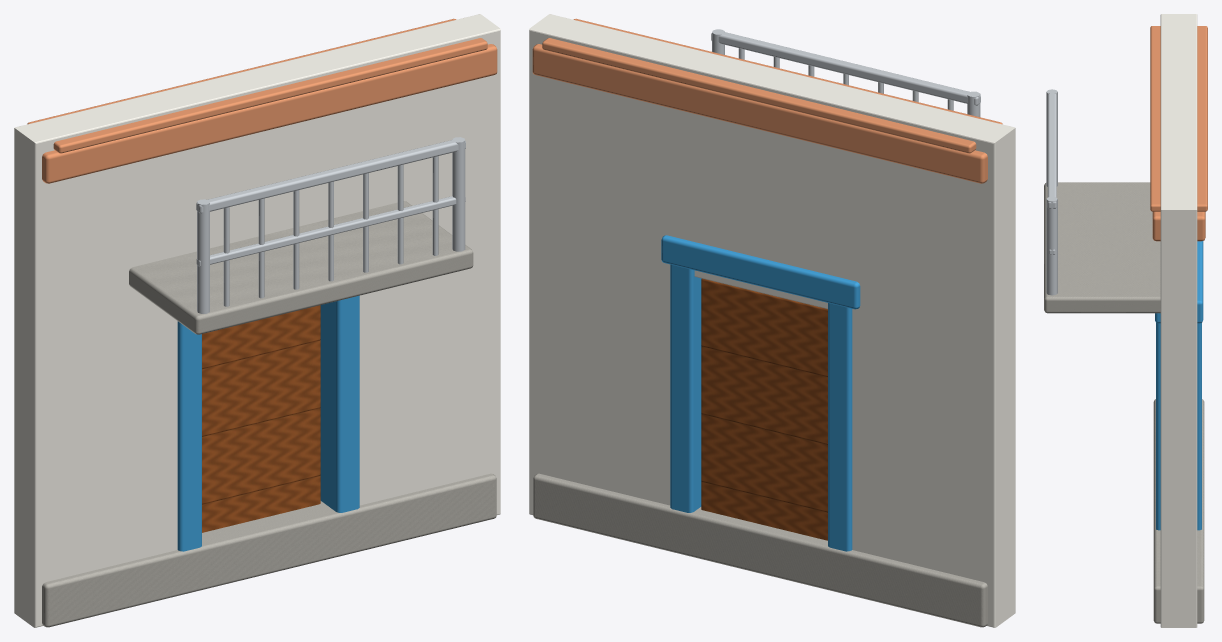
Rendered from hero-shooter-harbour-payload-wall-bay-door-balcony-7e155b3c__27693.glb.
The picture shows the model from 3 angles, left to right: view 1: azimuth 30°, elevation 25°; view 2: azimuth 150°, elevation 25°; view 3: azimuth 270°, elevation 25°; orthographic projection. The views are drawn at different scales.
Visible parts, largest first — view 1: wall-bay-door-balcony; view 2: wall-bay-door-balcony; view 3: wall-bay-door-balcony.
Boxes of the visible parts, x1=… form: wall-bay-door-balcony: x1=14, y1=14, x2=500, y2=627; wall-bay-door-balcony: x1=529, y1=14, x2=1015, y2=627; wall-bay-door-balcony: x1=1044, y1=14, x2=1207, y2=627.
Bounding box in the file's own units: 4.02 × 4 × 1.42.
6 materials, 2 textured.
